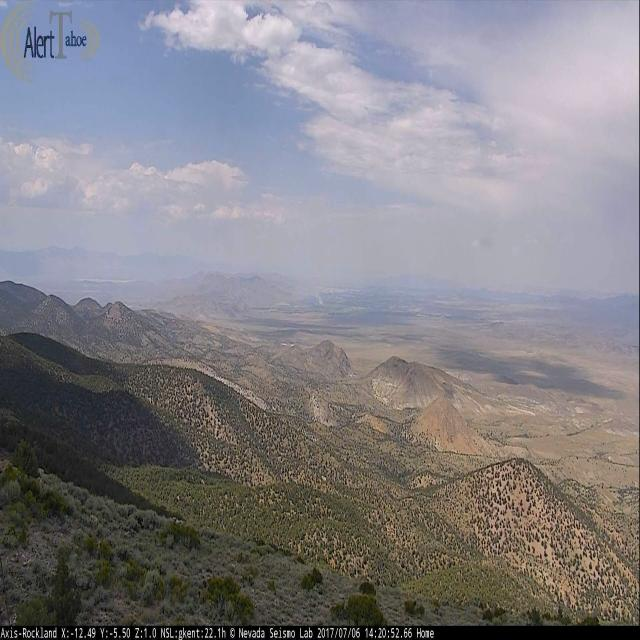smoke: (315, 292, 324, 306)
